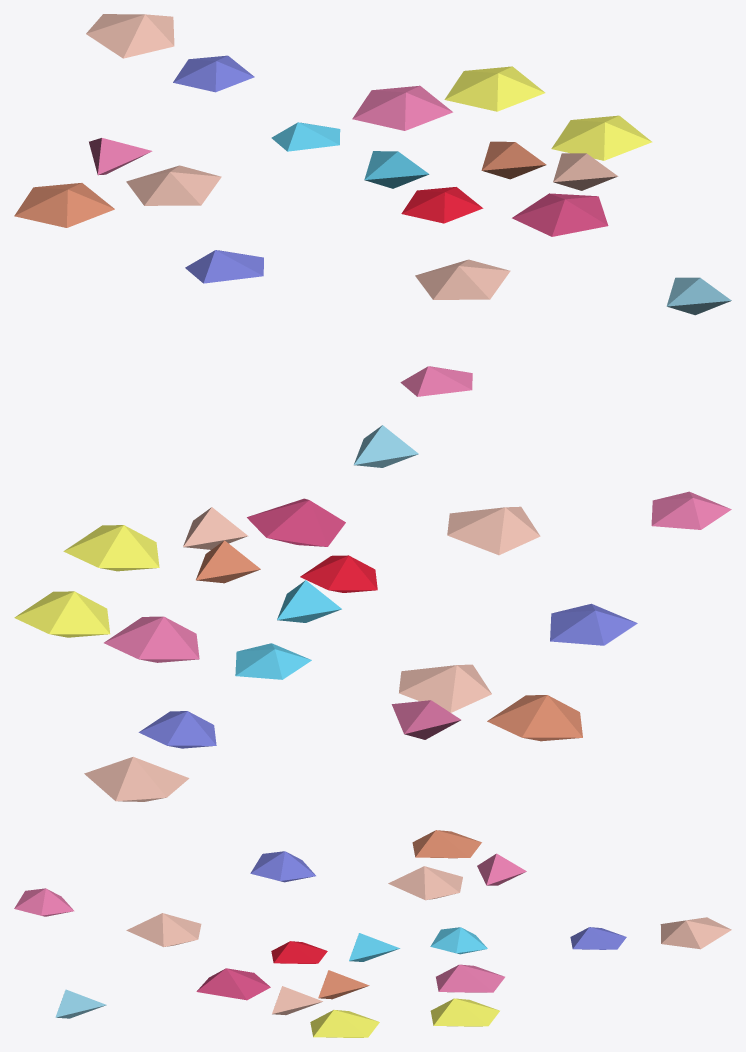
The model's file is ZLP_Flower_A_4.FBX.
3 renders of one model, top to bottom at view 1: azimuth 30°, elevation 25°; view 2: azimuth 150°, elevation 25°; view 3: azimuth 270°, elevation 25°, orthographic. The views are drawn at different scales.
Visible parts, largest first — view 1: ZLP_Flower_A_4; view 2: ZLP_Flower_A_4; view 3: ZLP_Flower_A_4.
Part boxes in pixels (x1,y1,x2,y2): ZLP_Flower_A_4: (14, 14, 731, 396); ZLP_Flower_A_4: (14, 425, 731, 801); ZLP_Flower_A_4: (14, 830, 731, 1037).
Size of the model in its own units: 112 by 11.03 by 162.
